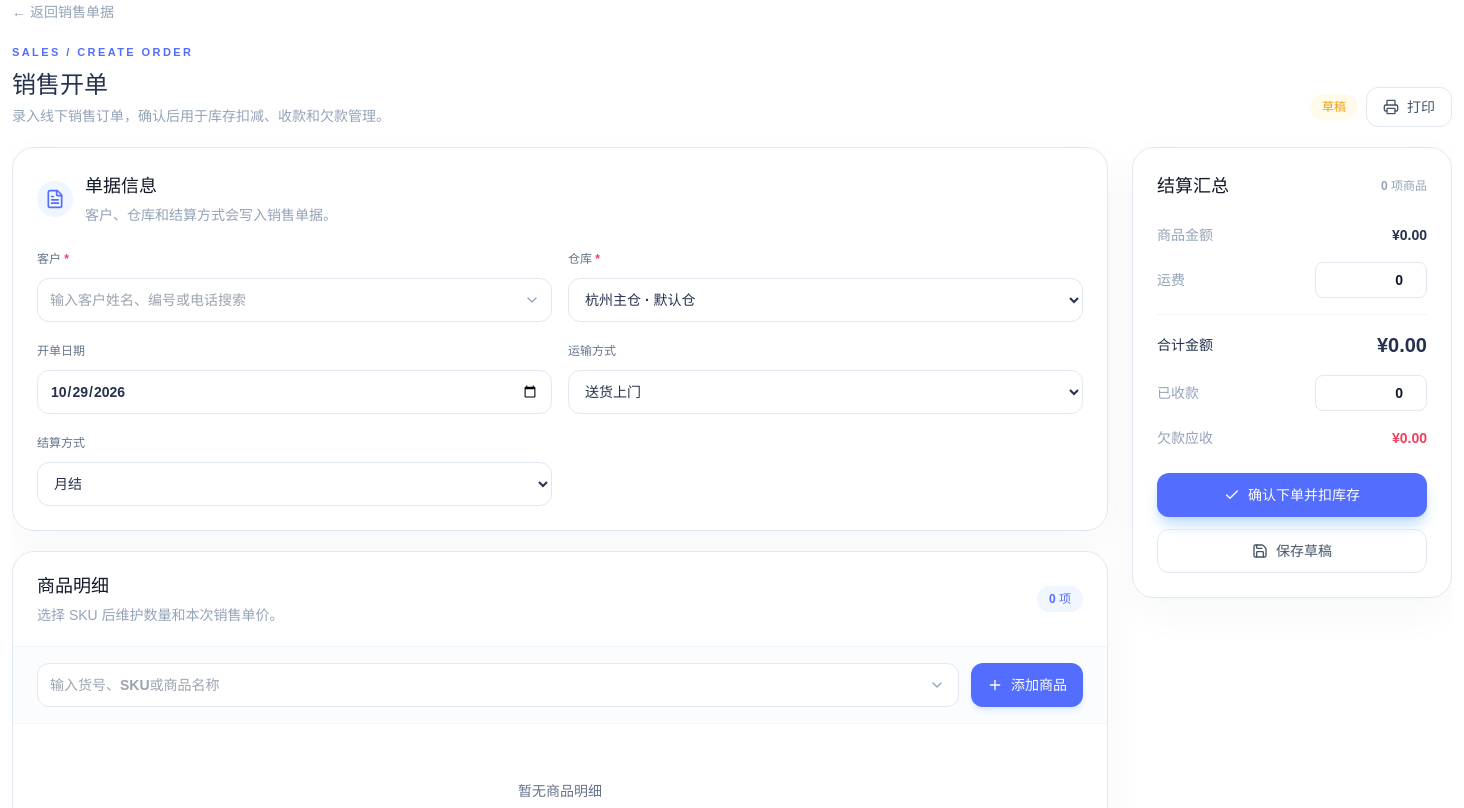
it: SalesCreateView › searches customers by name, number, contact and phone and applies the chosen customer defaults
The image size is (1464, 808).
Type "上海" into the dropdown with test id "sales-customer".
click(294, 300); type("上海")  # box [37,278,552,322]
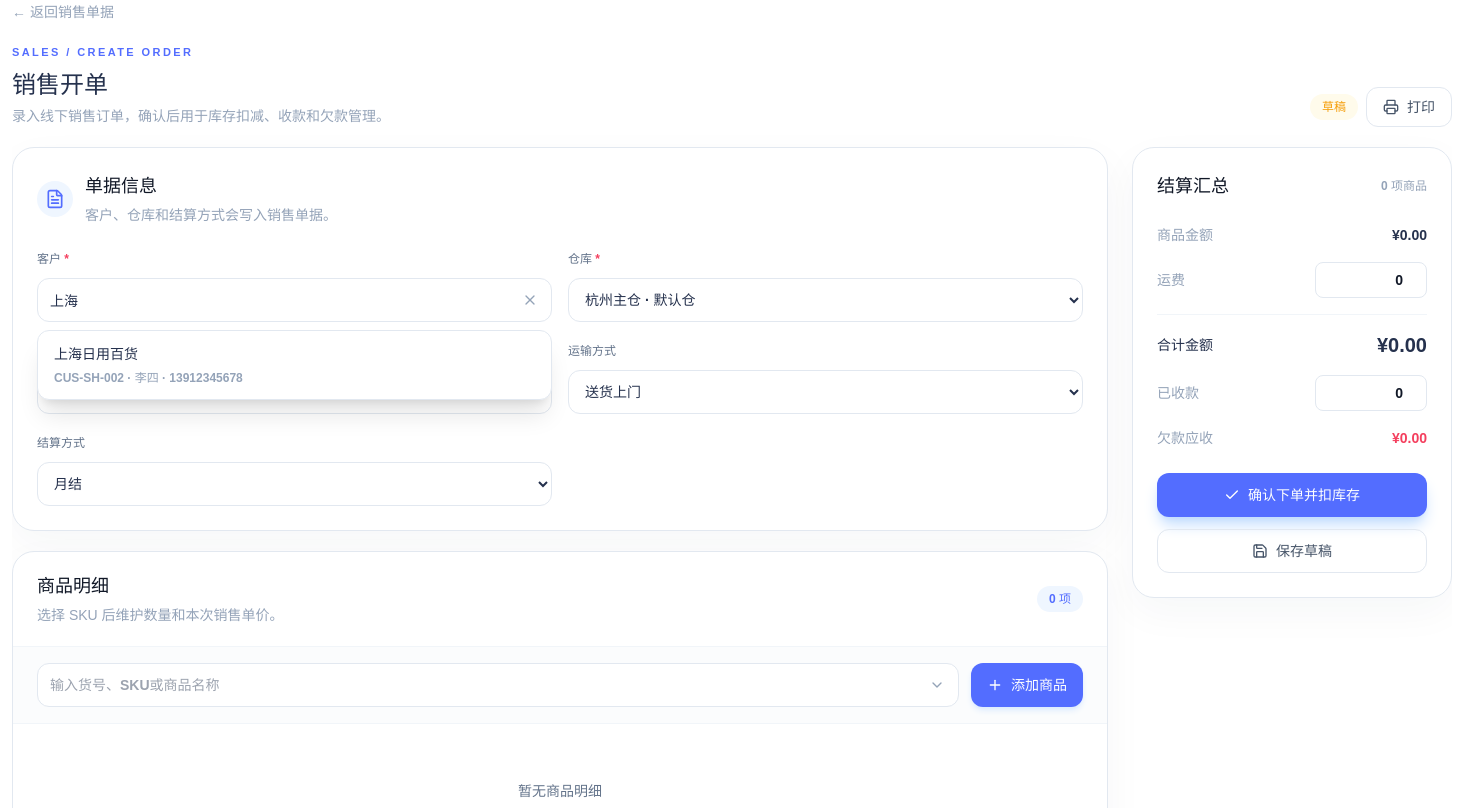
Check: the option with test id "sales-customer-option-6" shows "上海日用百货", box [42,334,547,394]
Replace the text in the dropdown with test id "sales-customer" with "cus-sh" at [294, 300], box [37,278,552,322]
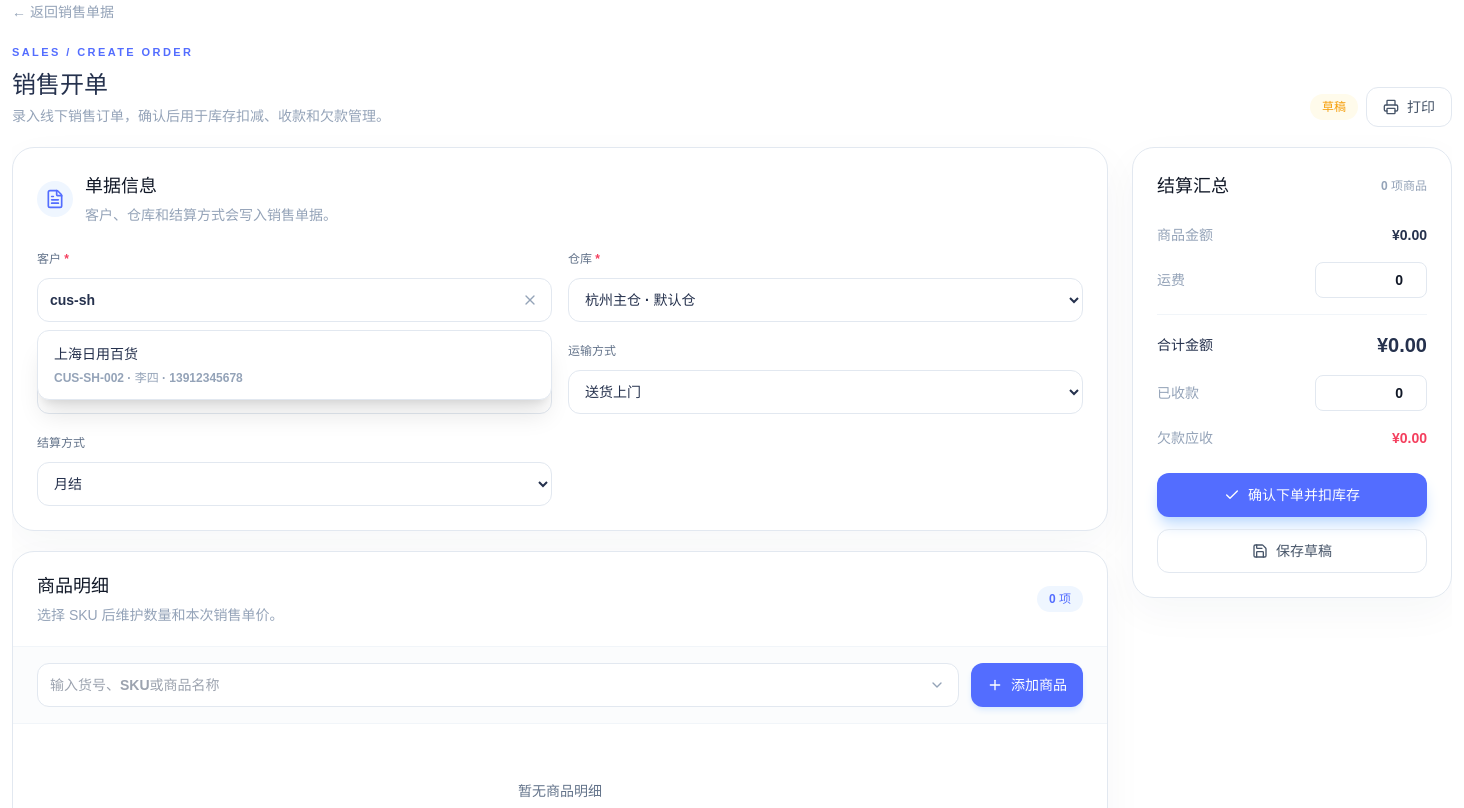
Check: the option with test id "sales-customer-option-6" shows "上海日用百货", box [42,334,547,394]
Replace the text in the dropdown with test id "sales-customer" with "李四" at [294, 300], box [37,278,552,322]
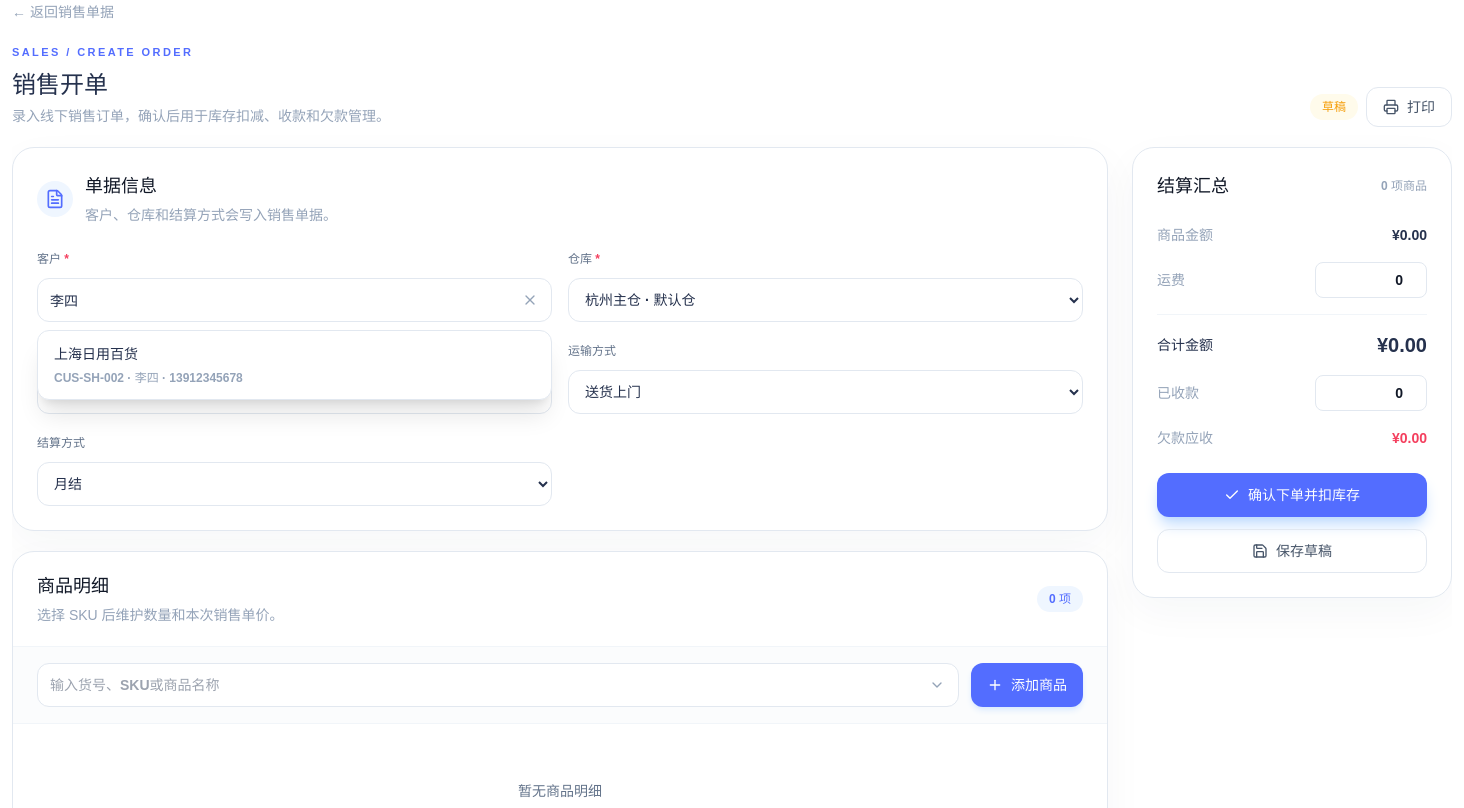
Check: the option with test id "sales-customer-option-6" shows "上海日用百货", box [42,334,547,394]
Replace the text in the dropdown with test id "sales-customer" with "12345678" at [294, 300], box [37,278,552,322]
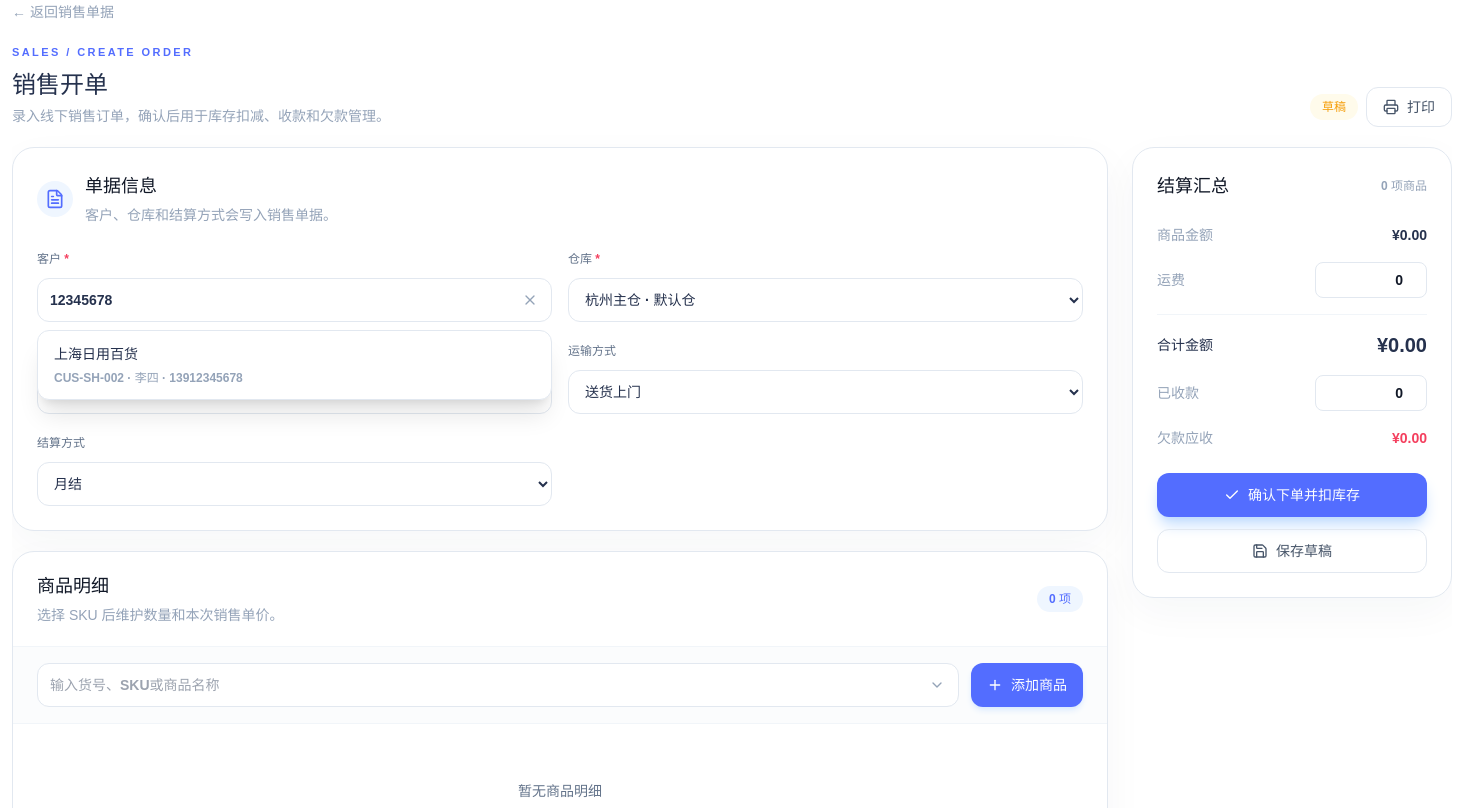
Check: the option with test id "sales-customer-option-6" shows "上海日用百货"
Click the option with test id "sales-customer-option-6".
click(96, 354)  # box [42,334,547,394]
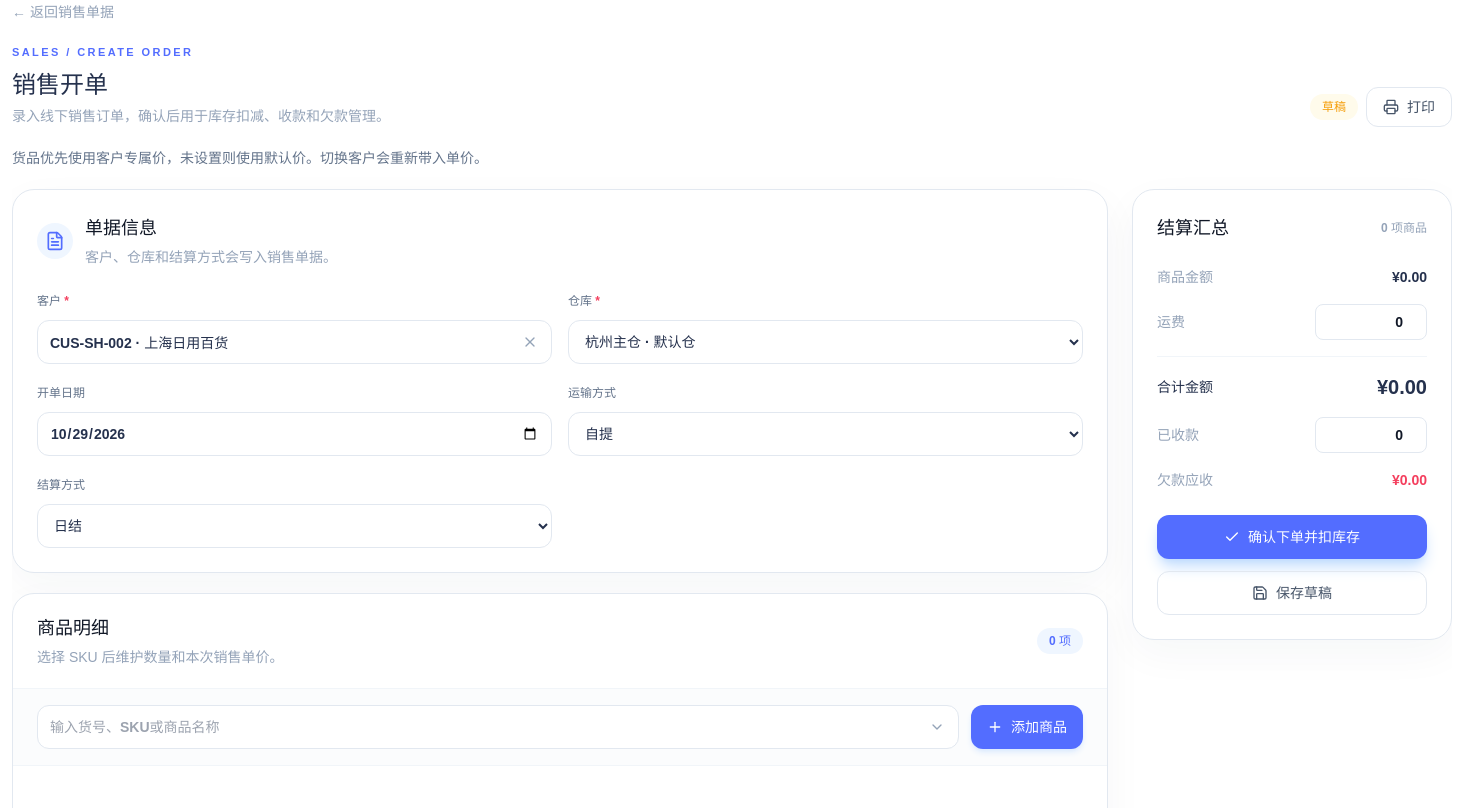
Check: the dropdown with test id "sales-customer" holds "CUS-SH-002 · 上海日用百货", box [37,320,552,364]
Check: the dropdown with test id "sales-transport" shows "自提", box [568,412,1083,456]
Check: the dropdown with test id "sales-settlement" shows "日结", box [37,504,552,548]
